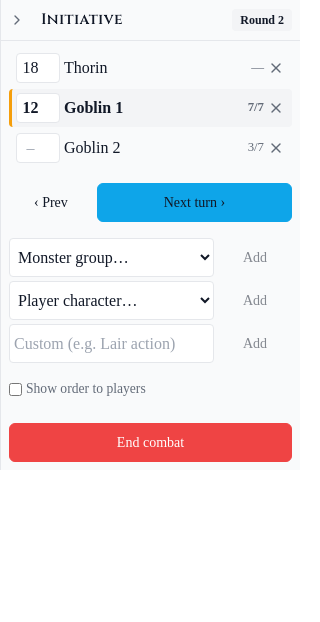
InitiativeTracker › HP panel (MIMIR-T-0678) › lets an entry without HP get max HP
The width and height of the screenshot is (320, 622).
Step 1. Click the button with class "entry-name" showing "Thorin" → (156, 68), box [64,56,247,80]
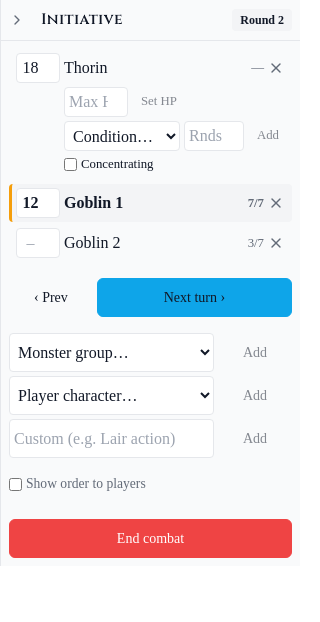
Step 2. Type "44" into the number field with test id "set-max-hp" → (96, 102), box [64,87,128,117]
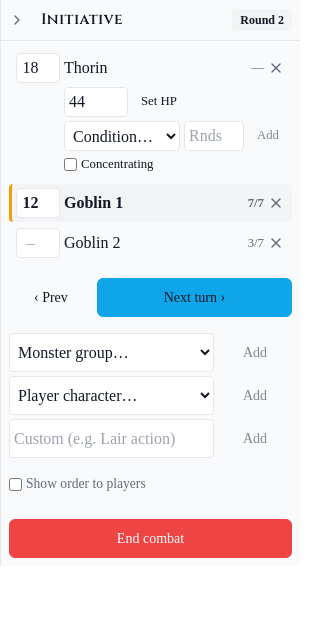
Step 3. Click the button with test id "save-max-hp" → (159, 102), box [132,87,186,117]
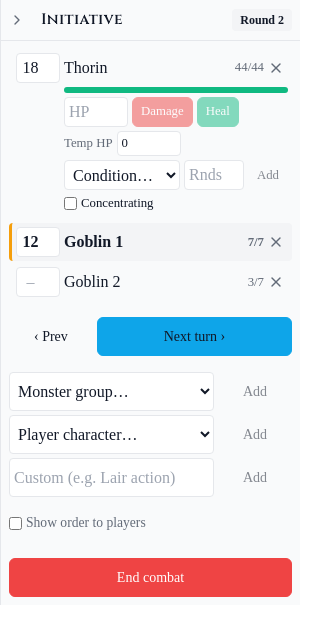
Check: the text with class "entry-hp" reads "44/44", box [235,60,264,74]
